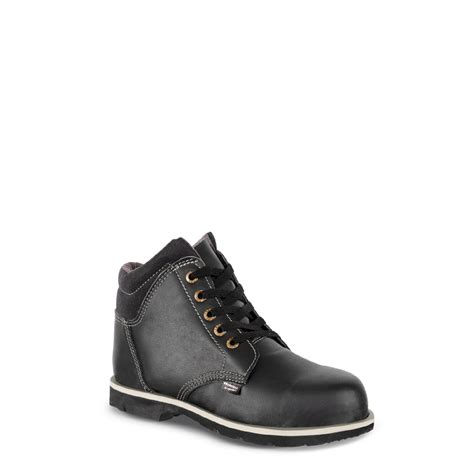cuero: (109, 233, 369, 433)
